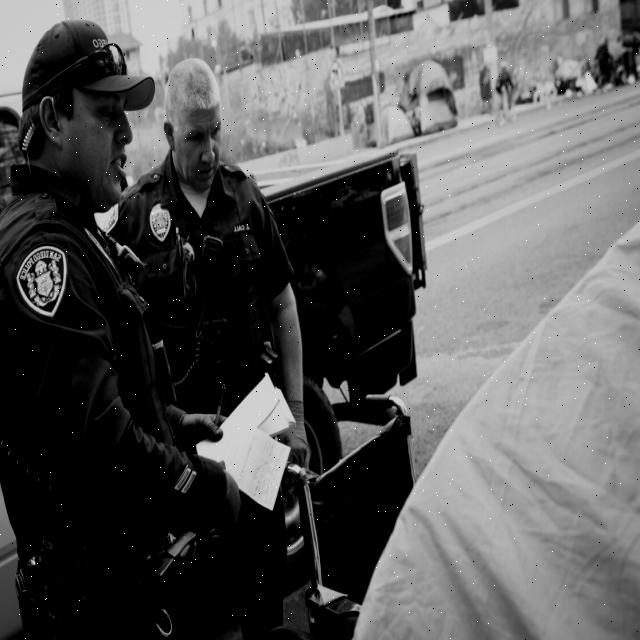police: (0, 13, 214, 640), (133, 35, 311, 468)
